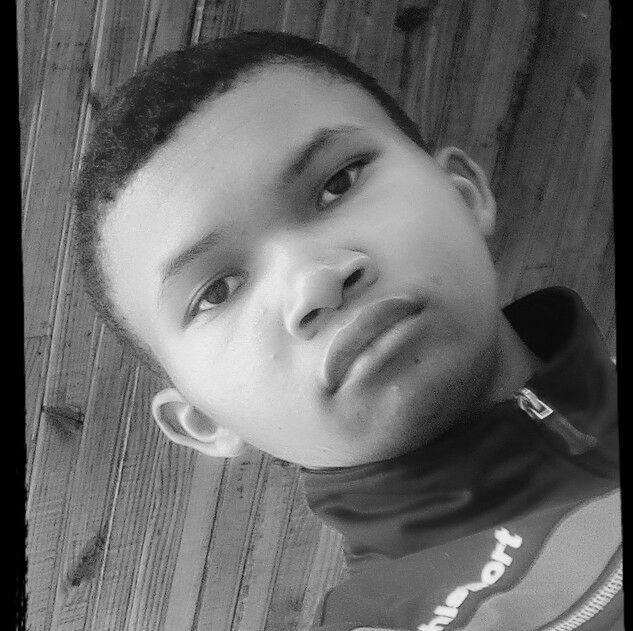BOY: (66, 30, 536, 473)
